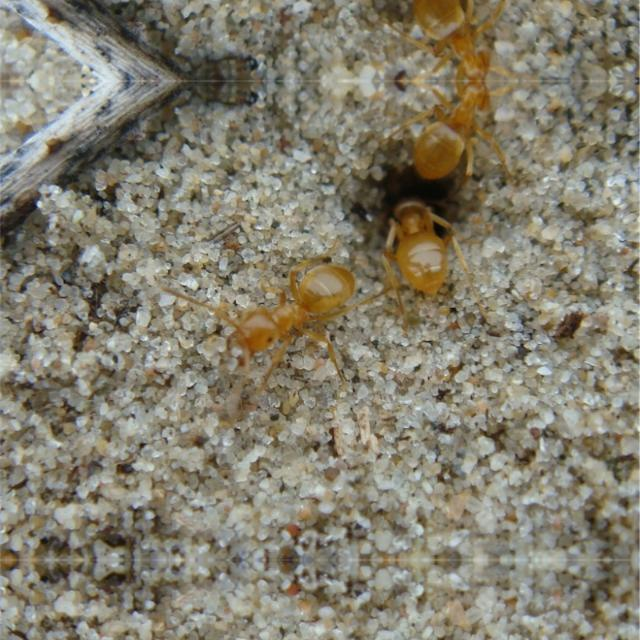Lasius: (191, 228, 385, 400), (372, 190, 476, 318), (408, 80, 512, 182), (406, 0, 512, 80)
